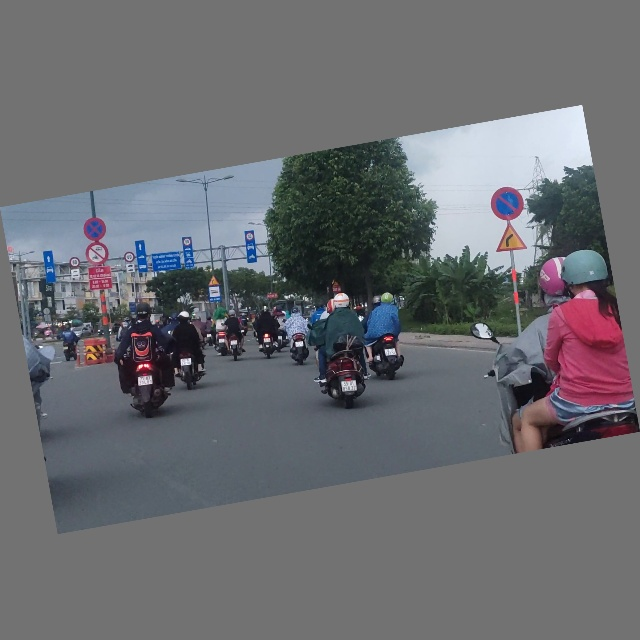I.434a: (207, 285, 223, 305)
P.111: (83, 239, 110, 268)
P.127*50: (183, 238, 192, 248), (245, 233, 254, 241)
P.127*60: (122, 251, 136, 264)
P.127*80: (68, 256, 81, 270)
P.130: (81, 214, 108, 244)
P.131a: (488, 185, 526, 224)
S.505a*Xe tai va cong: (125, 263, 136, 275)
W.201b: (493, 222, 528, 255), (206, 273, 221, 287)
